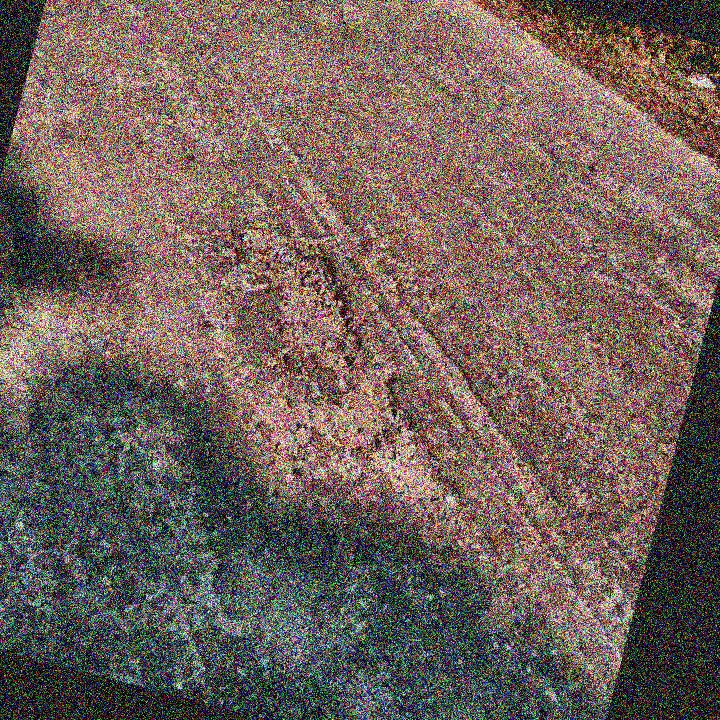pothole: (186, 216, 448, 480)
